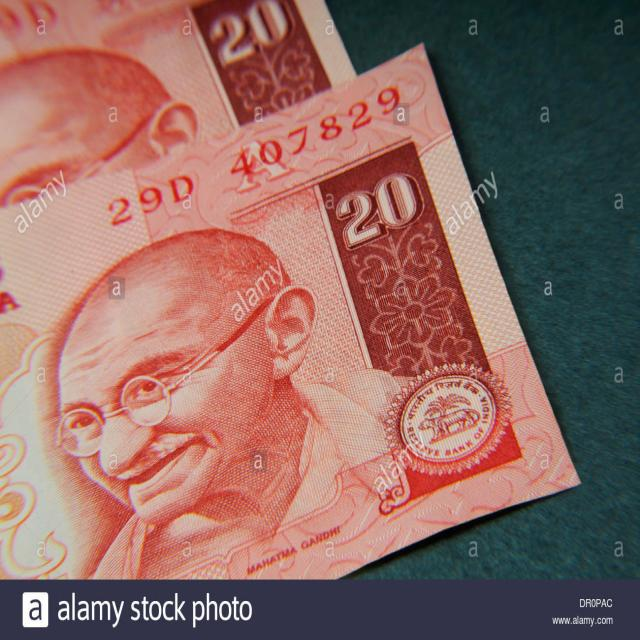20IndianRupees: (14, 65, 597, 570)
